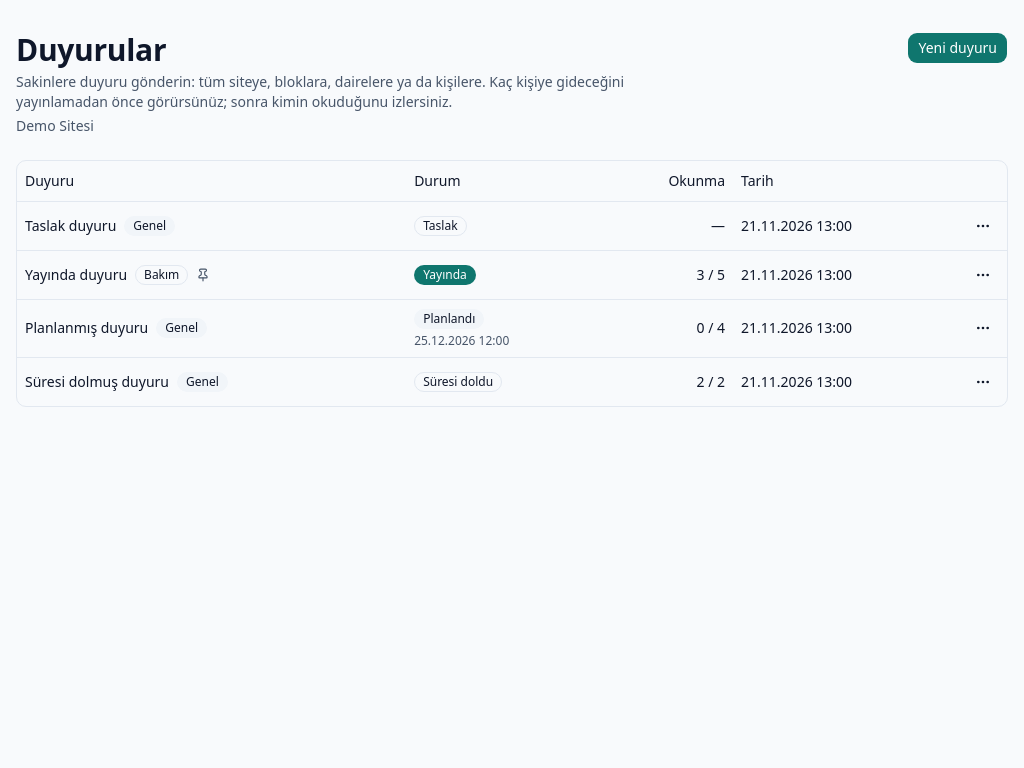
Test: Duyurular (admin): writing one › waits for a choice of blocks, and asks for exactly those
Click the button "Yeni duyuru" at (958, 48), box [908,32,1008,64]
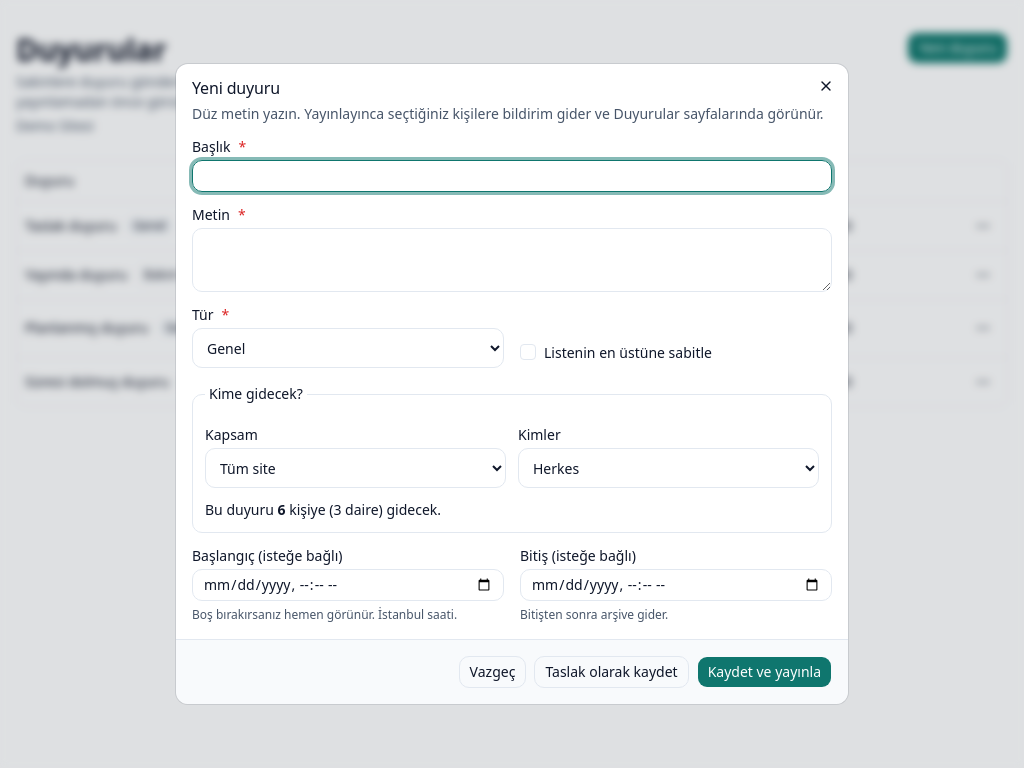
Select "Seçilen bloklar" in the dropdown labelled "Kapsam" at (356, 468), box [205,448,506,488]
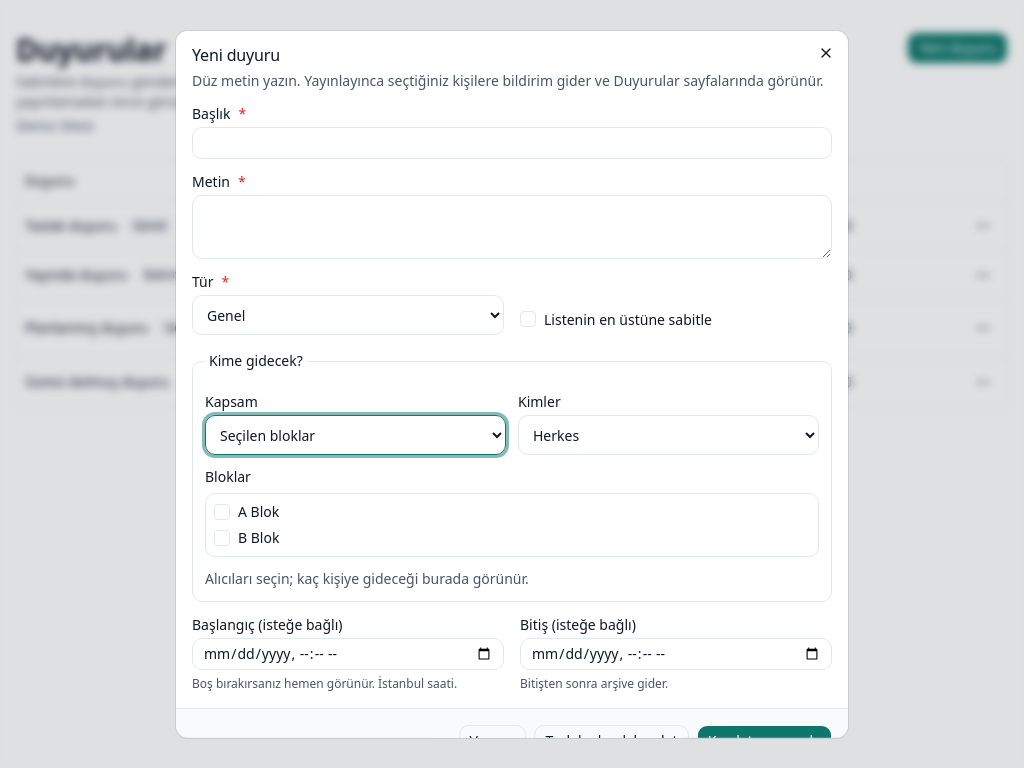
Check: the text "Alıcıları seçin; kaç kişiye gideceği burada görünür." is shown, box [205,569,529,588]
Click the checkbox named "A Blok" next to "A Blok" at (222, 512), box [214,504,230,520]
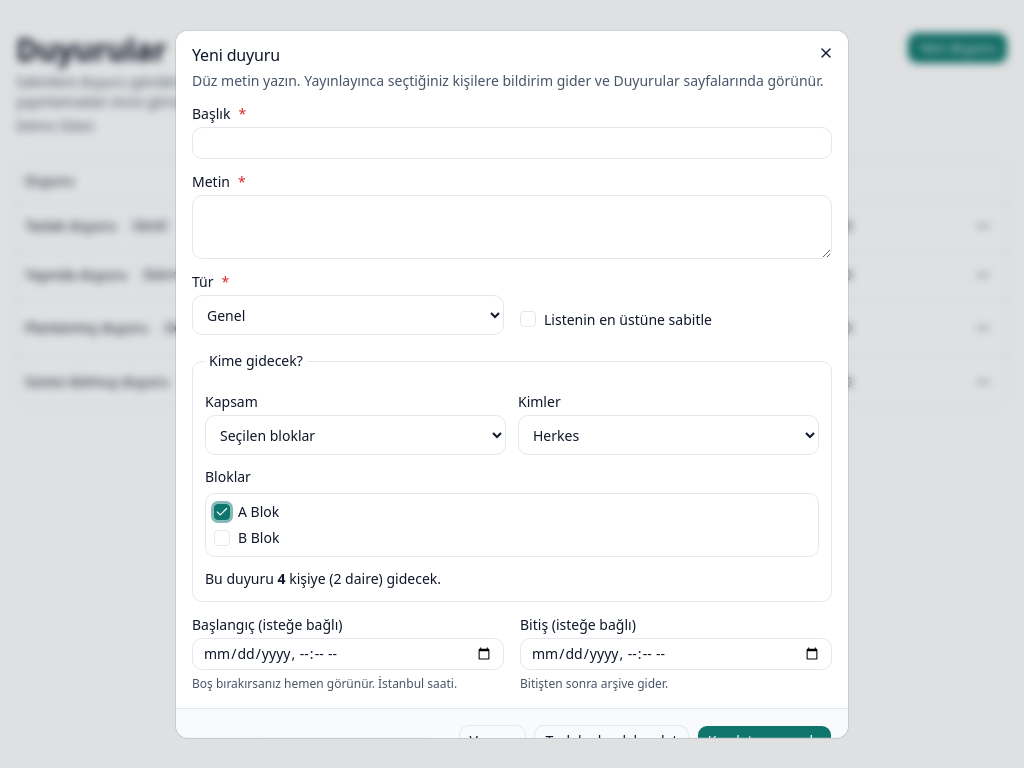
Check: the text "Bu duyuru 4 kişiye (2 daire) gidecek." is shown, box [205,569,441,588]
